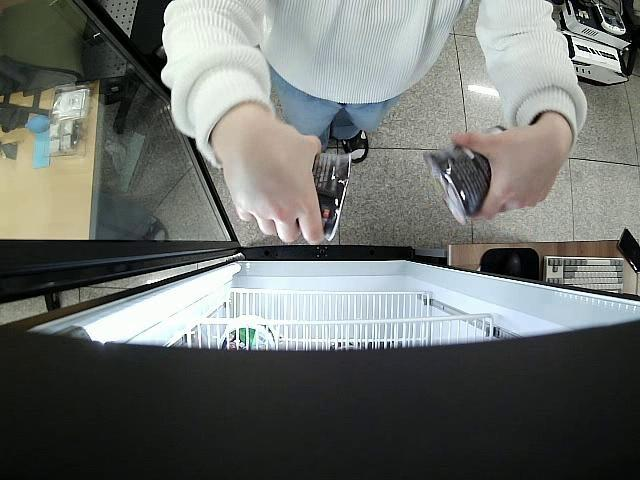08_buldak_S: (427, 142, 496, 228), (301, 135, 353, 243)
